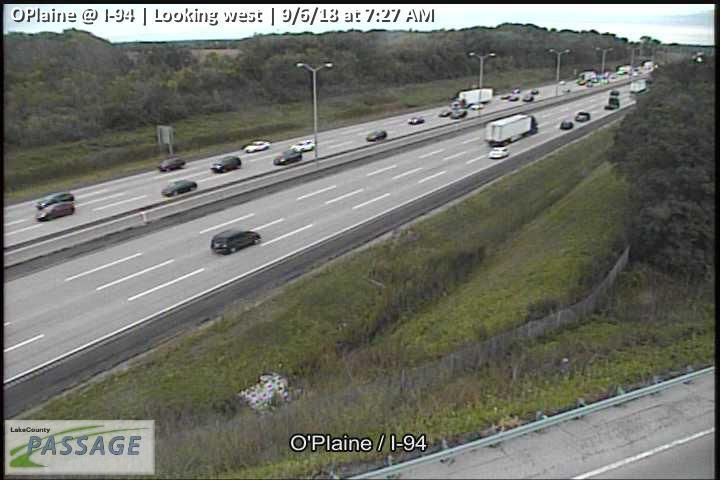SUV: (209, 228, 262, 255), (35, 201, 74, 221), (211, 155, 241, 172)
Sedan: (159, 180, 198, 199), (35, 192, 75, 209), (272, 147, 303, 166), (243, 138, 271, 154), (157, 157, 186, 171), (488, 144, 510, 160), (288, 139, 315, 152), (365, 130, 387, 142), (407, 116, 426, 124)
Truck: (482, 113, 540, 149), (450, 88, 494, 109)
